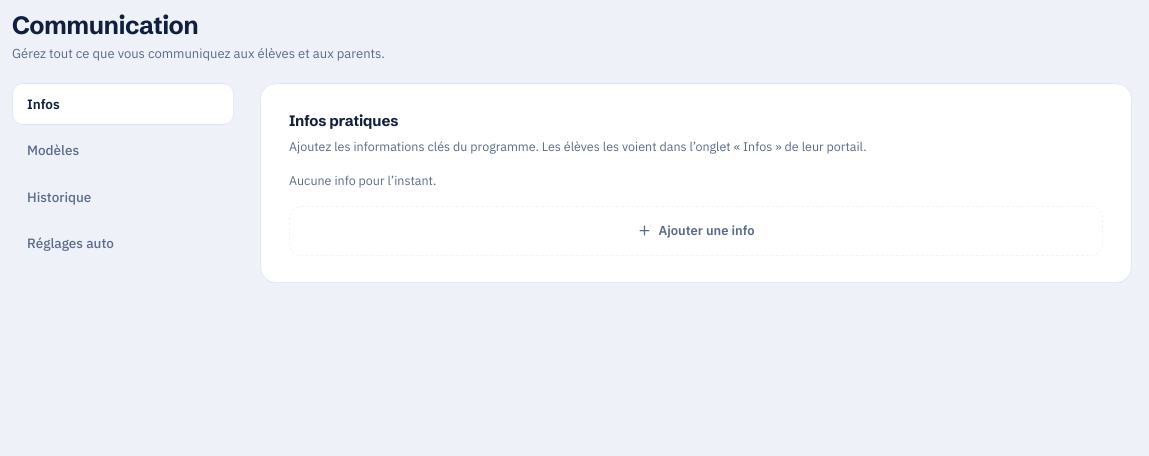
CommunicationView › shows the reminder settings under Réglages auto
Step 1. Click the button "Réglages auto" → click(123, 243), box x1=12 y1=222 x2=234 y2=264
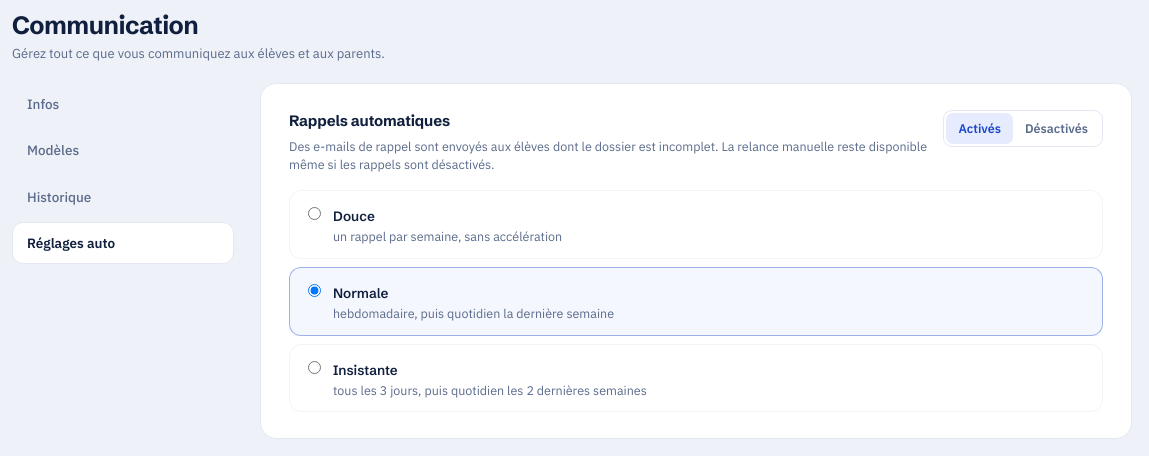
Expected: the text "Rappels automatiques" is shown, x1=289 y1=111 x2=450 y2=130
